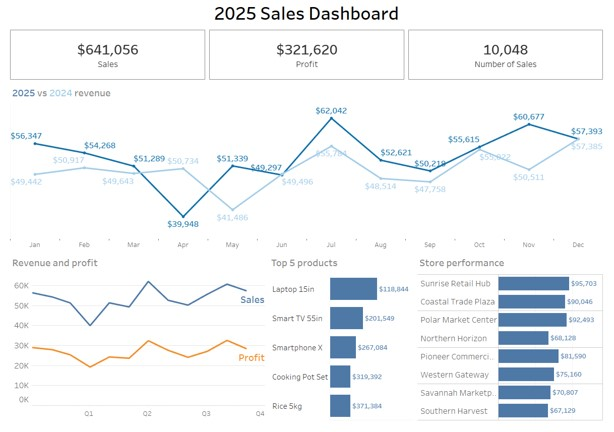

The page's visual inventory and layout, read from the dashboard file:
{"tool":"tableau","page":{"name":"Dashboard","canvas":[1000,1000],"units":"permille","ordinal":0},"visuals":[{"type":"text","box":[6.7,9.3,986.7,70.9]},{"type":"worksheet","title":"sales","mark":"Automatic","box":[6.7,80.2,329.2,124.4]},{"type":"worksheet","title":"profit","mark":"Automatic","box":[335.8,80.2,329.2,124.4]},{"type":"worksheet","title":"num of sales","mark":"Automatic","box":[665,80.2,328.3,124.4]},{"type":"worksheet","title":"revenue 2024 VS 2025","mark":"Automatic","rows":["total_revenue"],"cols":["transaction_datetime"],"box":[6.7,204.7,986.7,391.9]},{"type":"worksheet","title":"revenue/profitability","mark":"Automatic","rows":["total_revenue","profit"],"cols":["transaction_datetime"],"box":[6.7,596.5,428.3,394.2]},{"type":"worksheet","title":"top 5 products","mark":"Bar","rows":["product_name"],"cols":["total_revenue"],"box":[435,596.5,245,394.2]},{"type":"worksheet","title":"2025 Store performance","mark":"Automatic","rows":["region_name","store_name"],"cols":["total_revenue"],"box":[680,596.5,313.3,394.2]}]}

Visuals, with their boxes on the dashboard's canvas, which has no fixed pixel size, in thousandths of its width and height (x1, y1, x2, y2). These are canvas units, not pixel positions in the 614x432 screenshot, which may show the page scaled, cropped or inside an application window:
text: {"x1": 7, "y1": 9, "x2": 993, "y2": 80}
"sales" worksheet: {"x1": 7, "y1": 80, "x2": 336, "y2": 205}
"profit" worksheet: {"x1": 336, "y1": 80, "x2": 665, "y2": 205}
"num of sales" worksheet: {"x1": 665, "y1": 80, "x2": 993, "y2": 205}
"revenue 2024 VS 2025" worksheet: {"x1": 7, "y1": 205, "x2": 993, "y2": 597}
"revenue/profitability" worksheet: {"x1": 7, "y1": 596, "x2": 435, "y2": 991}
"top 5 products" worksheet (Bar marks): {"x1": 435, "y1": 596, "x2": 680, "y2": 991}
"2025 Store performance" worksheet: {"x1": 680, "y1": 596, "x2": 993, "y2": 991}
